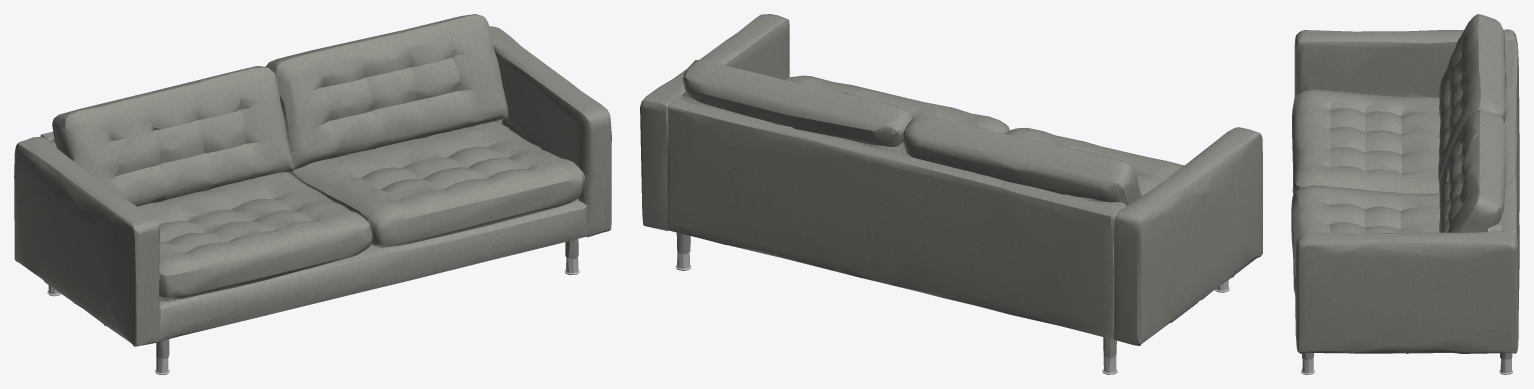
The model's file is MORABO_29318338.glb.
3 renders of one model, left to right at view 1: azimuth 30°, elevation 25°; view 2: azimuth 150°, elevation 25°; view 3: azimuth 270°, elevation 25°, orthographic. The views are drawn at different scales.
Parts seen in each view (by area): view 1: ProcessedMeshNode; view 2: ProcessedMeshNode; view 3: ProcessedMeshNode.
Boxes of the visible parts, <box> form: ProcessedMeshNode: <box>14,14,611,374</box>; ProcessedMeshNode: <box>640,14,1262,374</box>; ProcessedMeshNode: <box>1291,14,1519,374</box>.
Bounding box in the file's own units: 2.05 × 0.7744 × 0.9084.
1 material, 1 textured.
